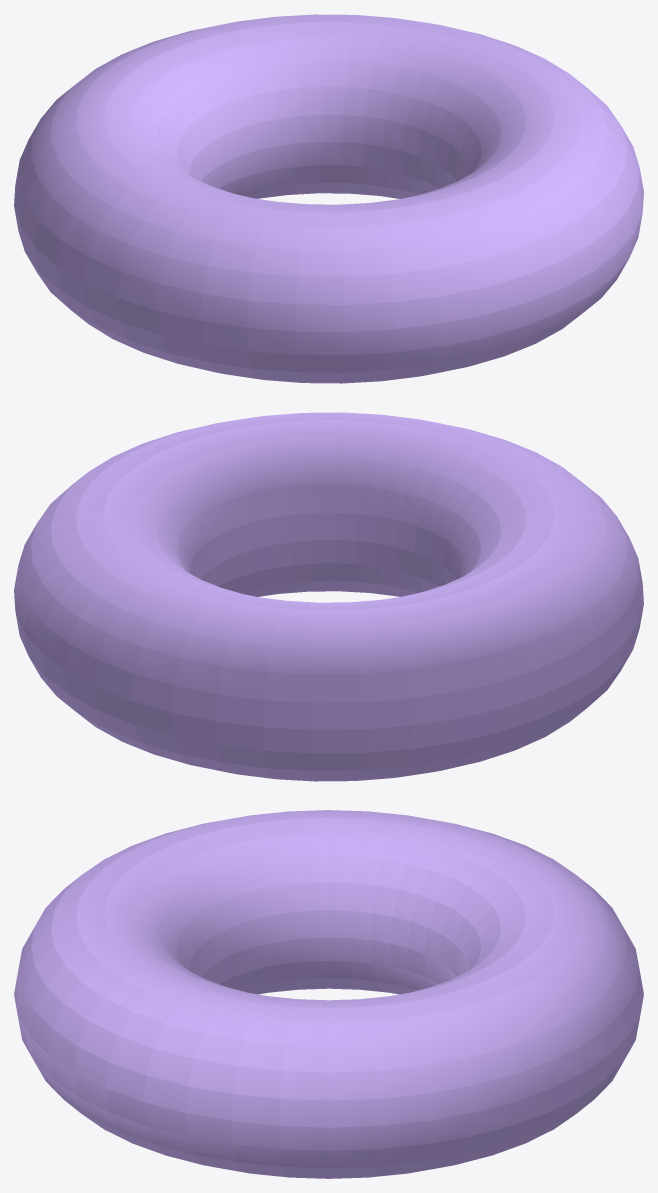
3 views of the same model, one above another, from view 1: azimuth 30°, elevation 25°; view 2: azimuth 150°, elevation 25°; view 3: azimuth 270°, elevation 25° (orthographic).
Visible parts, largest first — view 1: Torus; view 2: Torus; view 3: Torus.
Part boxes in pixels (x1,y1,x2,y2): Torus: [14, 14, 643, 383]; Torus: [14, 412, 643, 781]; Torus: [14, 810, 643, 1178].
Size of the model in its own units: 1.4 by 0.4 by 1.4.
